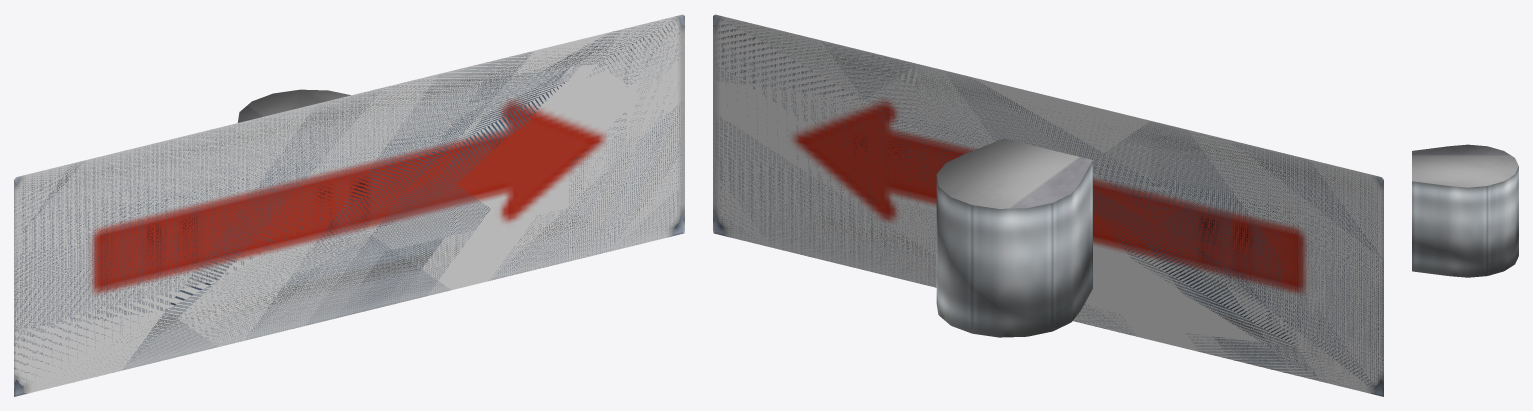
The model's file is Parts_Plate_Sub400.fbx.
3 renders of one model, left to right at view 1: azimuth 30°, elevation 25°; view 2: azimuth 150°, elevation 25°; view 3: azimuth 270°, elevation 25°, orthographic. The views are drawn at different scales.
Visible parts, largest first — view 1: 980_plate_sub400; view 2: 980_plate_sub400; view 3: 980_plate_sub400.
Part boxes in pixels (box(x1,y1,x2,y2)): 980_plate_sub400: box(14, 14, 684, 396); 980_plate_sub400: box(713, 14, 1383, 396); 980_plate_sub400: box(1412, 144, 1518, 277).
Size of the model in its own units: 0.4 by 0.125 by 0.0788.
